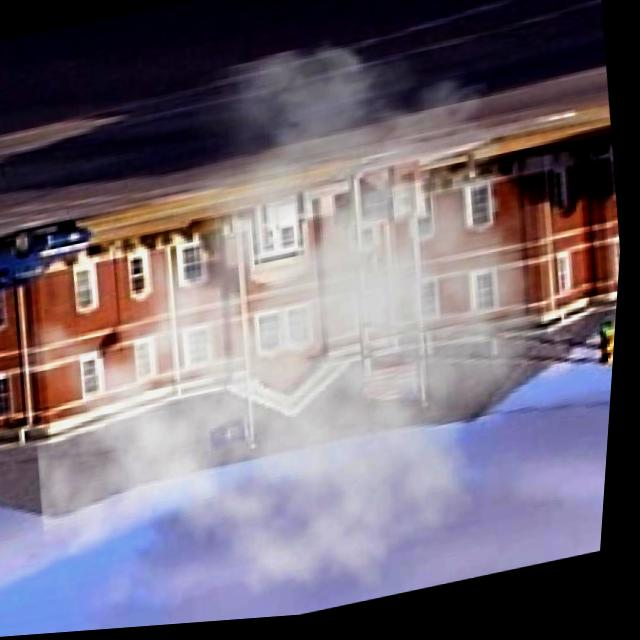no_helmet: (13, 0, 612, 635)
